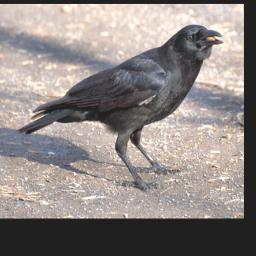Crow: (17, 23, 224, 192)
